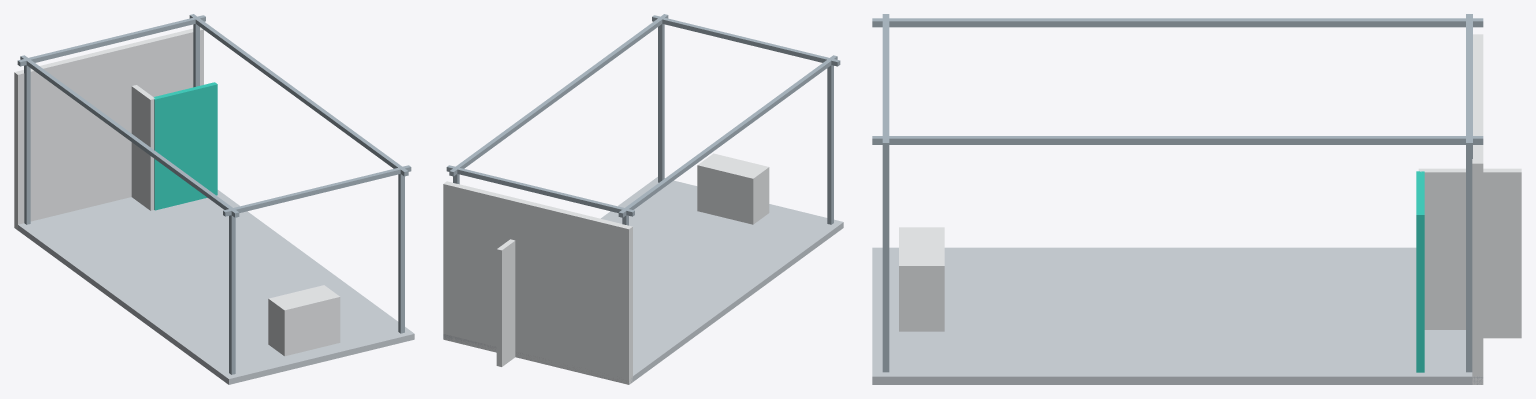
The picture shows the model from 3 angles, left to right: view 1: azimuth 30°, elevation 25°; view 2: azimuth 150°, elevation 25°; view 3: azimuth 270°, elevation 25°; orthographic projection. The views are drawn at different scales.
Parts seen in each view (by area): view 1: Exhibition Booth Concept; view 2: Exhibition Booth Concept; view 3: Exhibition Booth Concept.
Boxes of the visible parts, x1,y1,x2,y2 form: Exhibition Booth Concept: (14, 14, 414, 384); Exhibition Booth Concept: (443, 14, 843, 384); Exhibition Booth Concept: (872, 14, 1521, 384).
Bounding box in the file's own units: 4 × 3.49 × 8.51.
